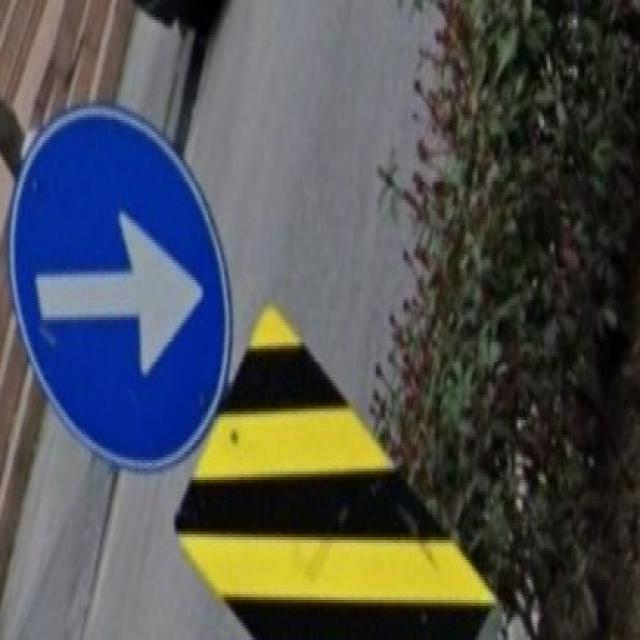Turn Right: (12, 113, 230, 476)
